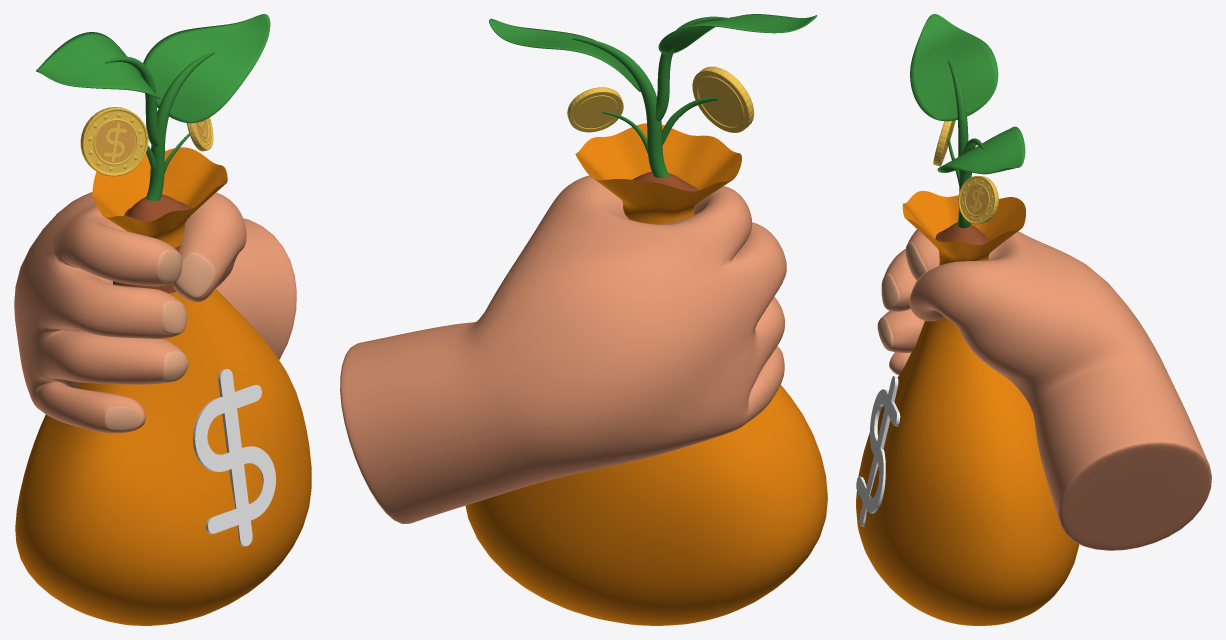
Rendered from money-reserves-3d-animated-icon-691425315504.glb.
3 renders of one model, left to right at view 1: azimuth 30°, elevation 25°; view 2: azimuth 150°, elevation 25°; view 3: azimuth 270°, elevation 25°, orthographic. The views are drawn at different scales.
Parts seen in each view (by area): view 1: Sphere, Vert.001, Plane, Curve.002, Plane.001, Dollar Coin 1, Plant, NurbsPath.001, Cube, Dollar Coin 2; view 2: Vert.001, Sphere, Dollar Coin 1, Plane.001, Plane, Plant, Dollar Coin 2, NurbsPath.001; view 3: Vert.001, Sphere, Plane.001, Curve.002, Plane, Dollar Coin 2, NurbsPath.001, Cube, Dollar Coin 1.
Boxes of the visible parts, x1,y1,x2,y2 form: Sphere: (15, 147, 311, 625); Vert.001: (14, 192, 296, 433); Plane: (143, 14, 270, 123); Curve.002: (192, 369, 275, 546); Plane.001: (36, 32, 160, 99); Dollar Coin 1: (80, 107, 148, 176); Plant: (146, 51, 215, 200); NurbsPath.001: (105, 56, 159, 146); Cube: (124, 194, 189, 221); Dollar Coin 2: (186, 117, 213, 151); Vert.001: (340, 175, 786, 523); Sphere: (465, 123, 827, 625); Dollar Coin 1: (692, 66, 754, 132); Plane.001: (658, 14, 817, 54); Plane: (489, 18, 640, 91); Plant: (572, 37, 668, 177); Dollar Coin 2: (567, 87, 623, 132); NurbsPath.001: (655, 16, 730, 121); Vert.001: (877, 229, 1211, 550); Sphere: (856, 190, 1079, 625); Plane.001: (910, 14, 998, 121); Curve.002: (856, 376, 900, 526); Plane: (937, 126, 1025, 174); Dollar Coin 2: (958, 176, 998, 224); NurbsPath.001: (947, 60, 968, 174); Cube: (935, 222, 989, 245); Dollar Coin 1: (933, 120, 955, 166).
Bounding box in the file's own units: 1.48 × 2.42 × 1.48.
